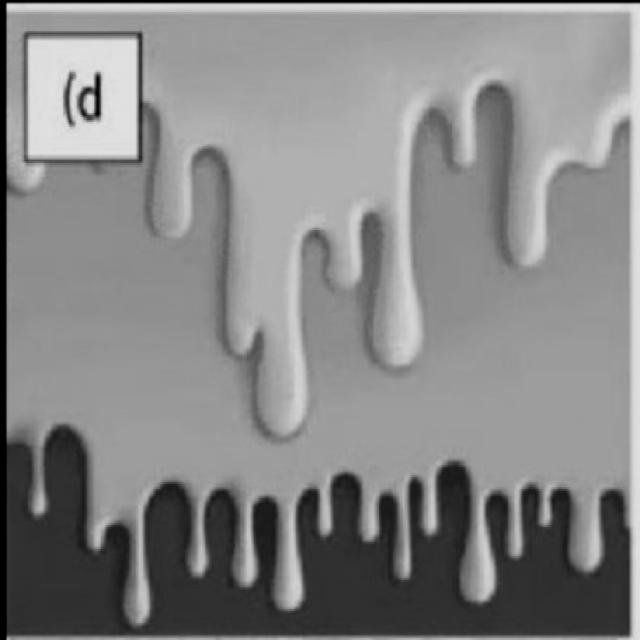paint drips: (17, 62, 629, 408), (16, 388, 623, 633)
